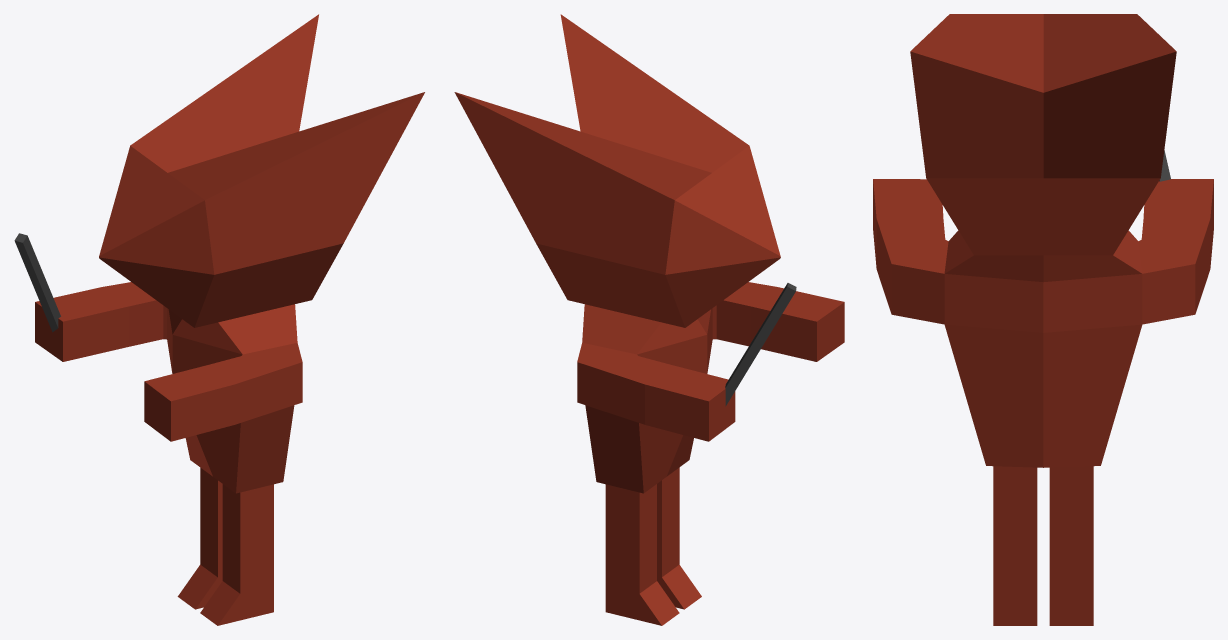
The model's file is Gremlin Conductor.fbx.
3 views of the same model, side by side, from view 1: azimuth 30°, elevation 25°; view 2: azimuth 150°, elevation 25°; view 3: azimuth 270°, elevation 25° (orthographic). The views are drawn at different scales.
Visible parts, largest first — view 1: Cube; view 2: Cube; view 3: Cube.
Boxes of the visible parts, box(x1,y1,x2,y2) form: Cube: box(14, 14, 424, 625); Cube: box(454, 14, 844, 625); Cube: box(873, 14, 1213, 625).
Bounding box in the file's own units: 500 × 762 × 364.
